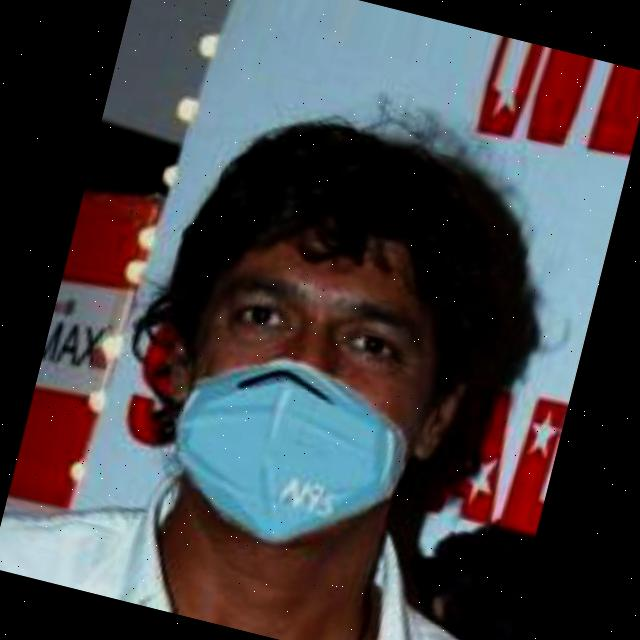suspicion: (104, 73, 564, 578)
